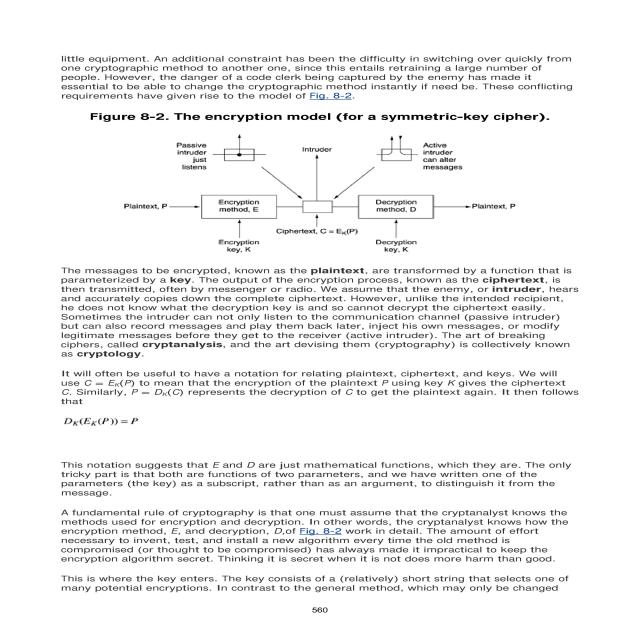diagram: (66, 103, 578, 258)
